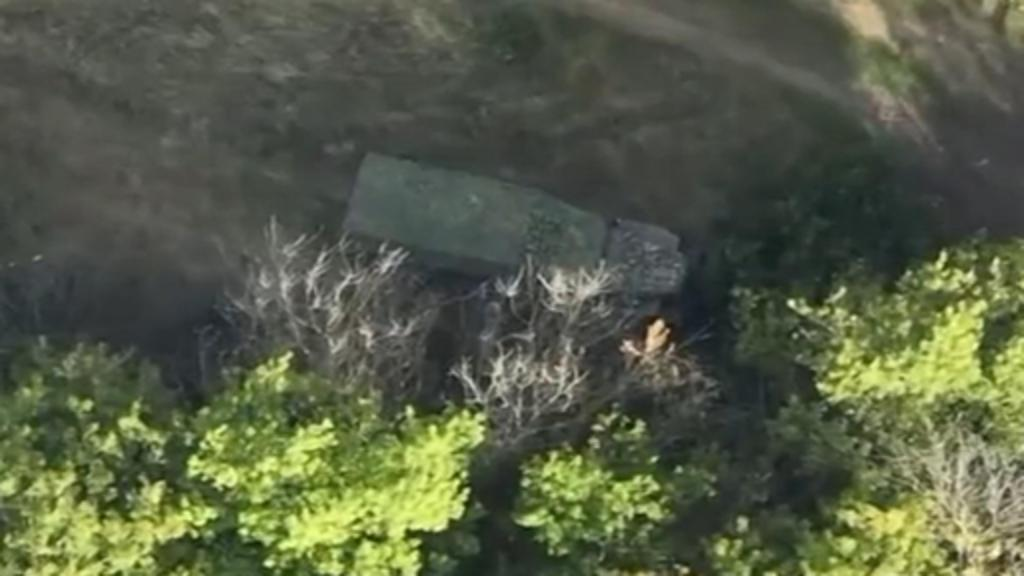TRUCK: (334, 142, 690, 342)
